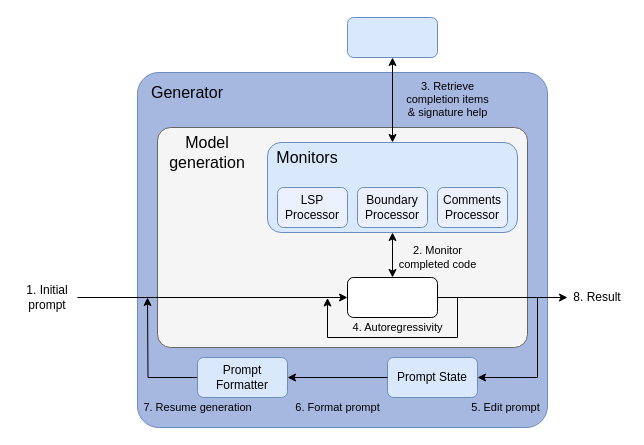
Some shapes in this 644 by 445 pixel diagram are drawn without their labels. The centre of each missing label's shape, as x and y in pixels:
Language Server: point 392,37
Next token prediction: point 392,297
